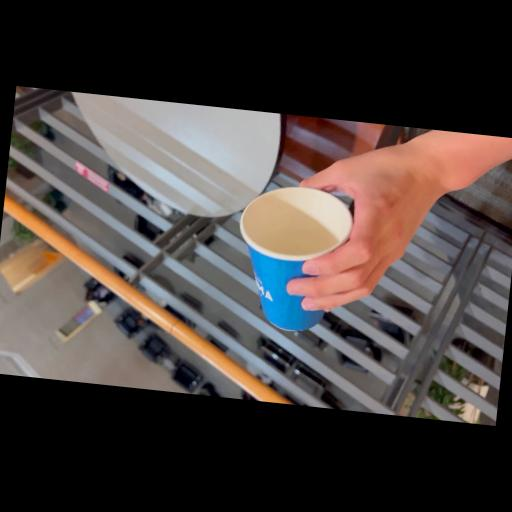lp_paper_cup: (228, 180, 352, 336)
